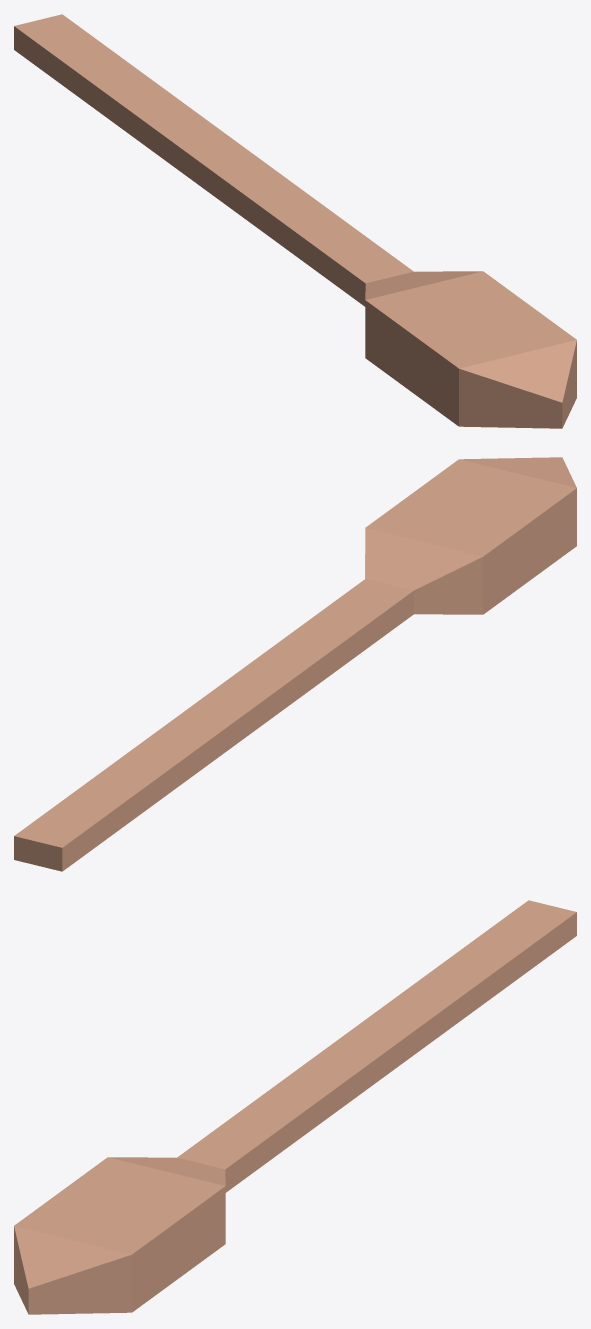
File: canoe_paddle.glb
3 renders of one model, top to bottom at view 1: azimuth 30°, elevation 25°; view 2: azimuth 150°, elevation 25°; view 3: azimuth 330°, elevation 25°, orthographic.
Parts seen in each view (by area): view 1: canoe_paddle; view 2: canoe_paddle; view 3: canoe_paddle.
Boxes of the visible parts, box(x1,y1,x2,y2) form: canoe_paddle: box(14, 14, 576, 428); canoe_paddle: box(14, 457, 576, 871); canoe_paddle: box(14, 900, 576, 1314).
Bounding box in the file's own units: 0.0767 × 0.0361 × 0.5902.
